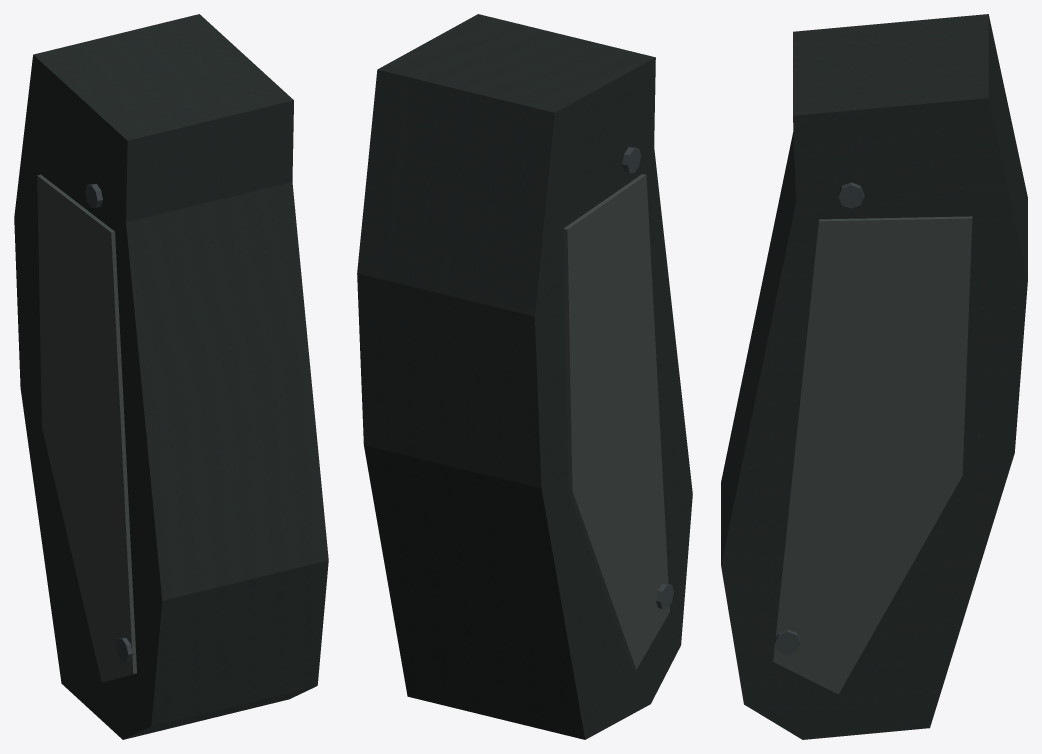
File: tt_grip.glb
The picture shows the model from 3 angles, left to right: view 1: azimuth 30°, elevation 25°; view 2: azimuth 150°, elevation 25°; view 3: azimuth 270°, elevation 25°; orthographic projection. The views are drawn at different scales.
Visible parts, largest first — view 1: tt_grip_item_profile, tt_grip_item_profile.001, tt_grip_molded_panel, tt_grip_visible_panel_screw; view 2: tt_grip_item_profile.001, tt_grip_item_profile, tt_grip_molded_panel, tt_grip_visible_panel_screw; view 3: tt_grip_item_profile, tt_grip_molded_panel, tt_grip_item_profile.001, tt_grip_visible_panel_screw.
Part boxes in pixels (left/top/right/bottom): tt_grip_item_profile: left=16, top=25, right=321, bottom=736; tt_grip_item_profile.001: left=14, top=14, right=328, bottom=739; tt_grip_molded_panel: left=37, top=174, right=136, bottom=682; tt_grip_visible_panel_screw: left=85, top=183, right=133, bottom=661; tt_grip_item_profile.001: left=357, top=14, right=692, bottom=739; tt_grip_item_profile: left=364, top=18, right=689, bottom=730; tt_grip_molded_panel: left=563, top=174, right=669, bottom=669; tt_grip_visible_panel_screw: left=622, top=147, right=673, bottom=609; tt_grip_item_profile: left=721, top=18, right=1027, bottom=730; tt_grip_molded_panel: left=773, top=216, right=972, bottom=694; tt_grip_item_profile.001: left=721, top=14, right=1027, bottom=739; tt_grip_visible_panel_screw: left=774, top=182, right=864, bottom=655.
Size of the model in its own units: 0.067 by 0.217 by 0.094.
3 materials, 2 textured.
